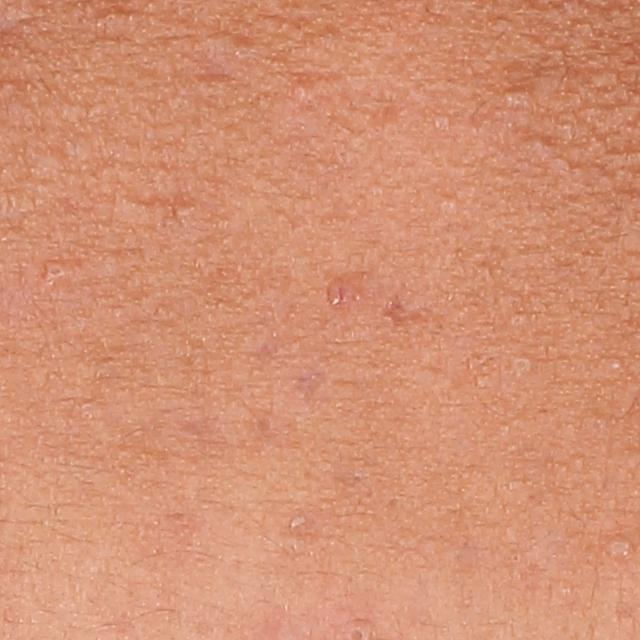atrophic_scar: (137, 189, 201, 231), (379, 296, 436, 333)
comedo: (495, 81, 531, 109), (41, 260, 69, 286), (605, 538, 636, 558), (510, 353, 535, 373), (607, 354, 627, 371)
